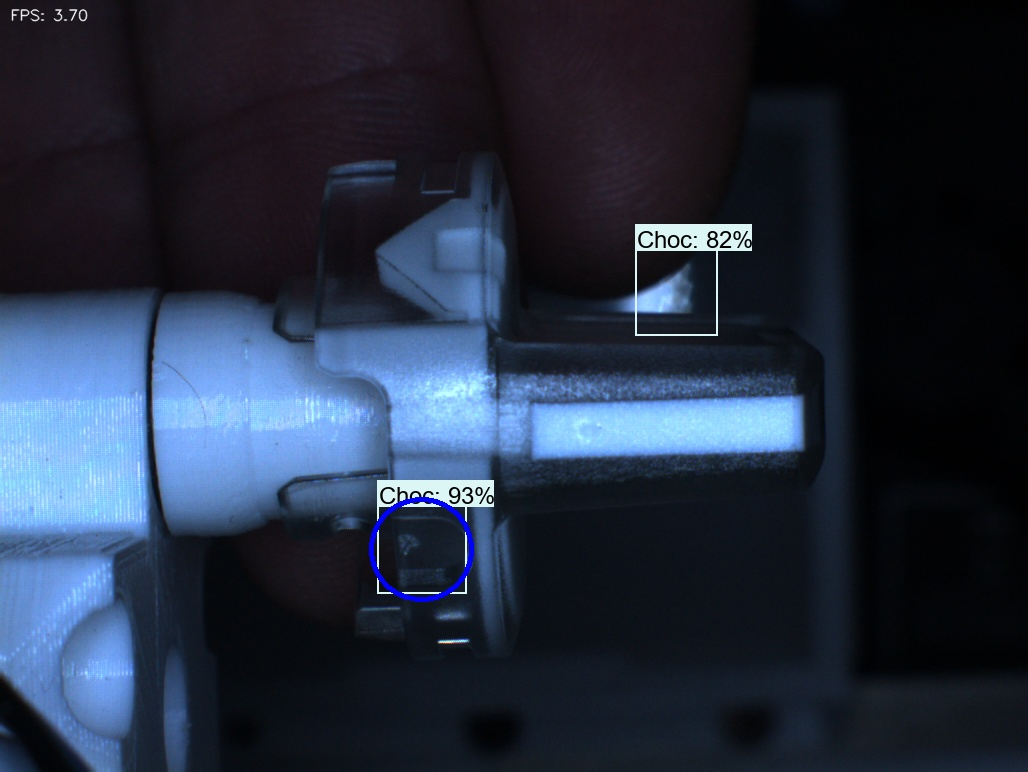DentOk: (346, 199, 431, 306)
